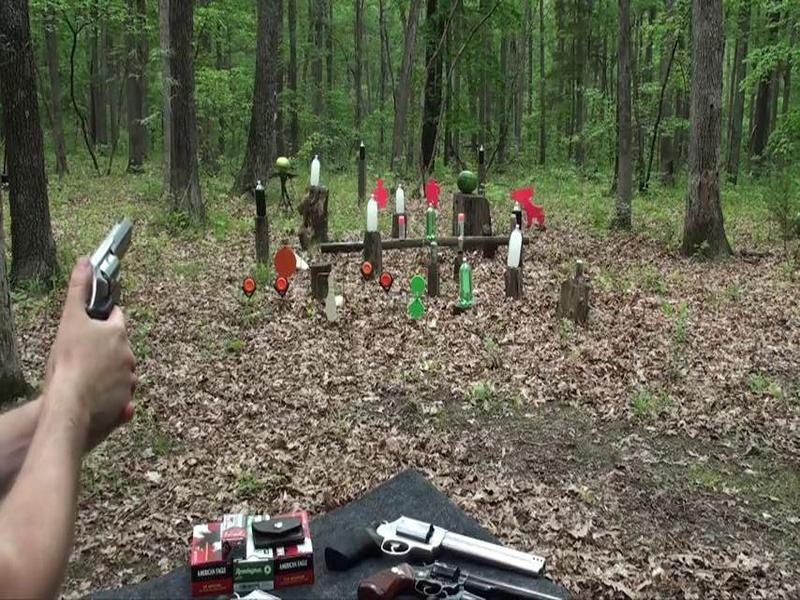Revolver: (78, 207, 154, 342)
